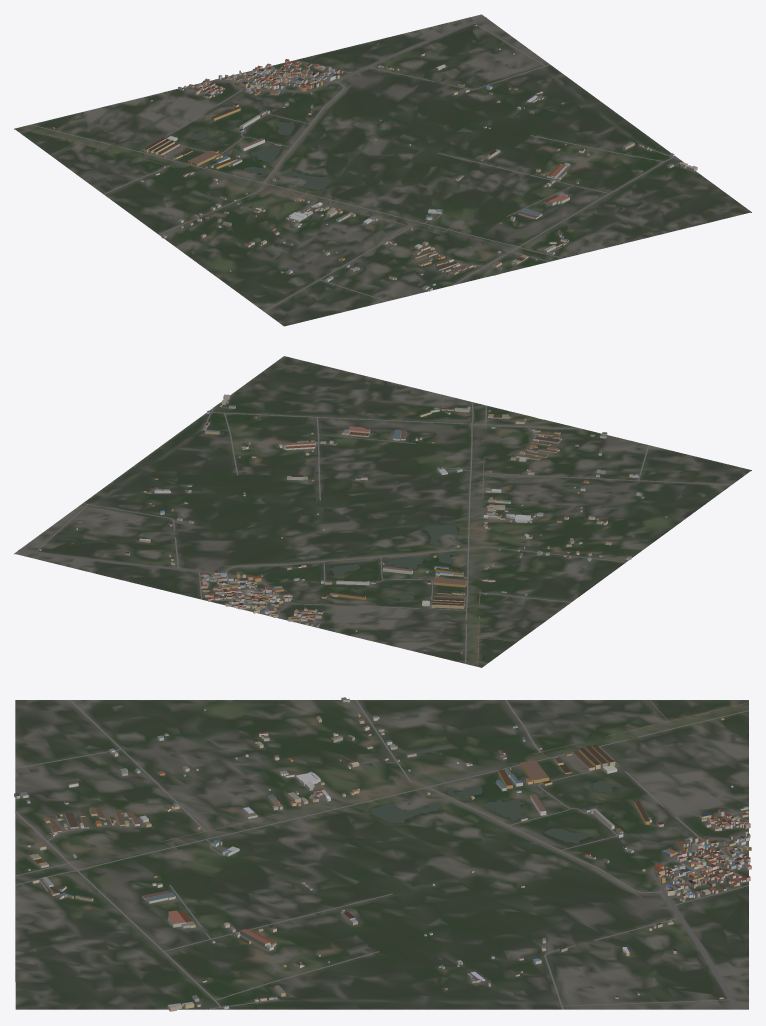
The picture shows the model from 3 angles, top to bottom: view 1: azimuth 30°, elevation 25°; view 2: azimuth 150°, elevation 25°; view 3: azimuth 270°, elevation 25°; orthographic projection. The views are drawn at different scales.
Visible parts, largest first — view 1: ground, buildings, roads, water; view 2: ground, buildings, roads, water; view 3: ground, buildings, roads, water.
Part boxes in pixels (<box>): ground: <box>14,14,751,326</box>; buildings: <box>52,24,697,291</box>; roads: <box>18,16,680,311</box>; water: <box>157,120,496,274</box>; ground: <box>14,356,751,667</box>; buildings: <box>39,394,667,653</box>; roads: <box>18,402,731,666</box>; water: <box>328,419,584,600</box>; ground: <box>15,700,748,1009</box>; buildings: <box>14,697,751,1011</box>; roads: <box>15,700,749,1009</box>; water: <box>18,713,623,843</box>.
Size of the model in its own units: 1412 by 14.02 by 1410.
